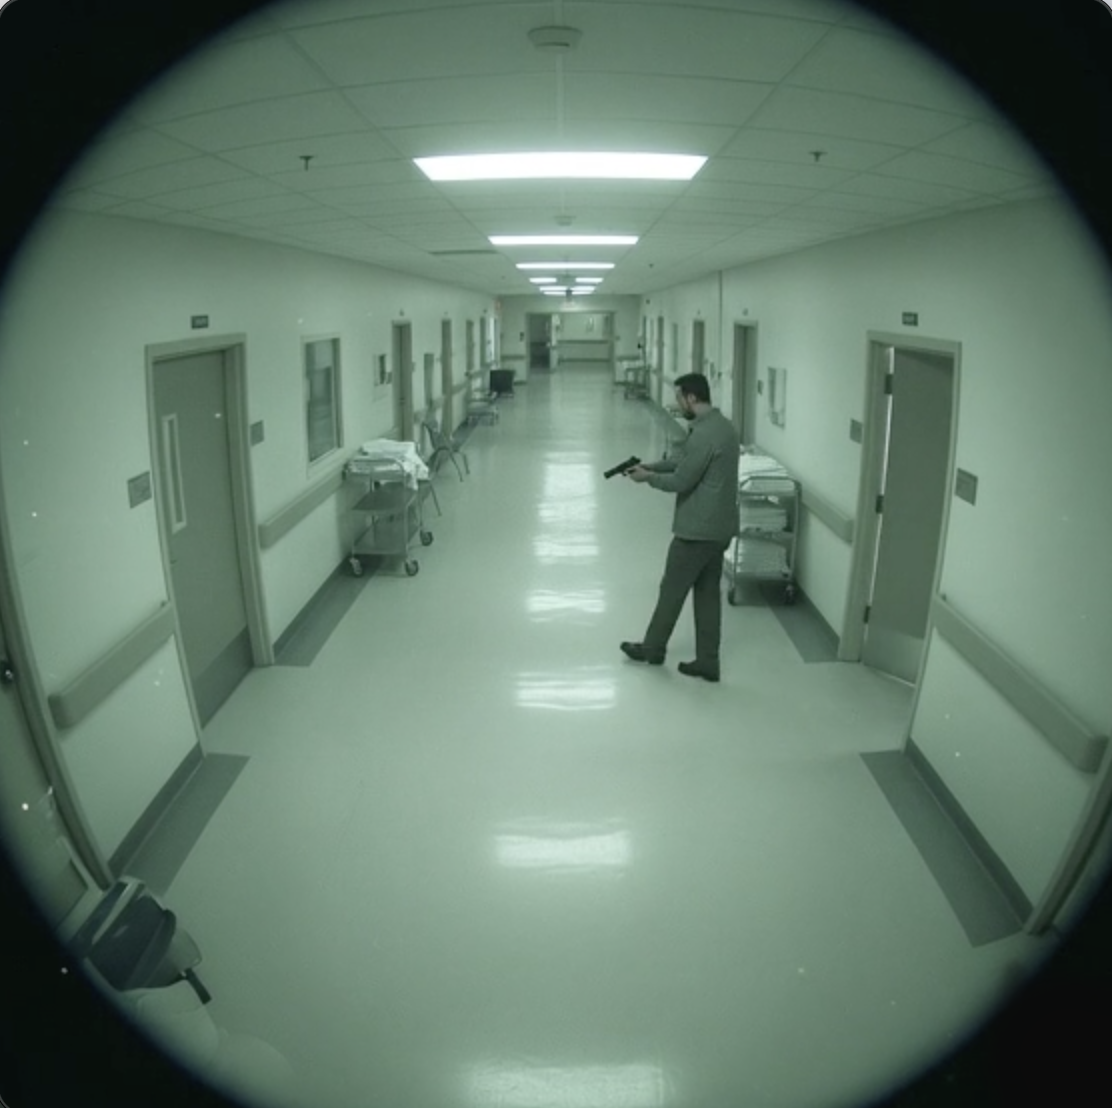weapon: (597, 456, 646, 484)
